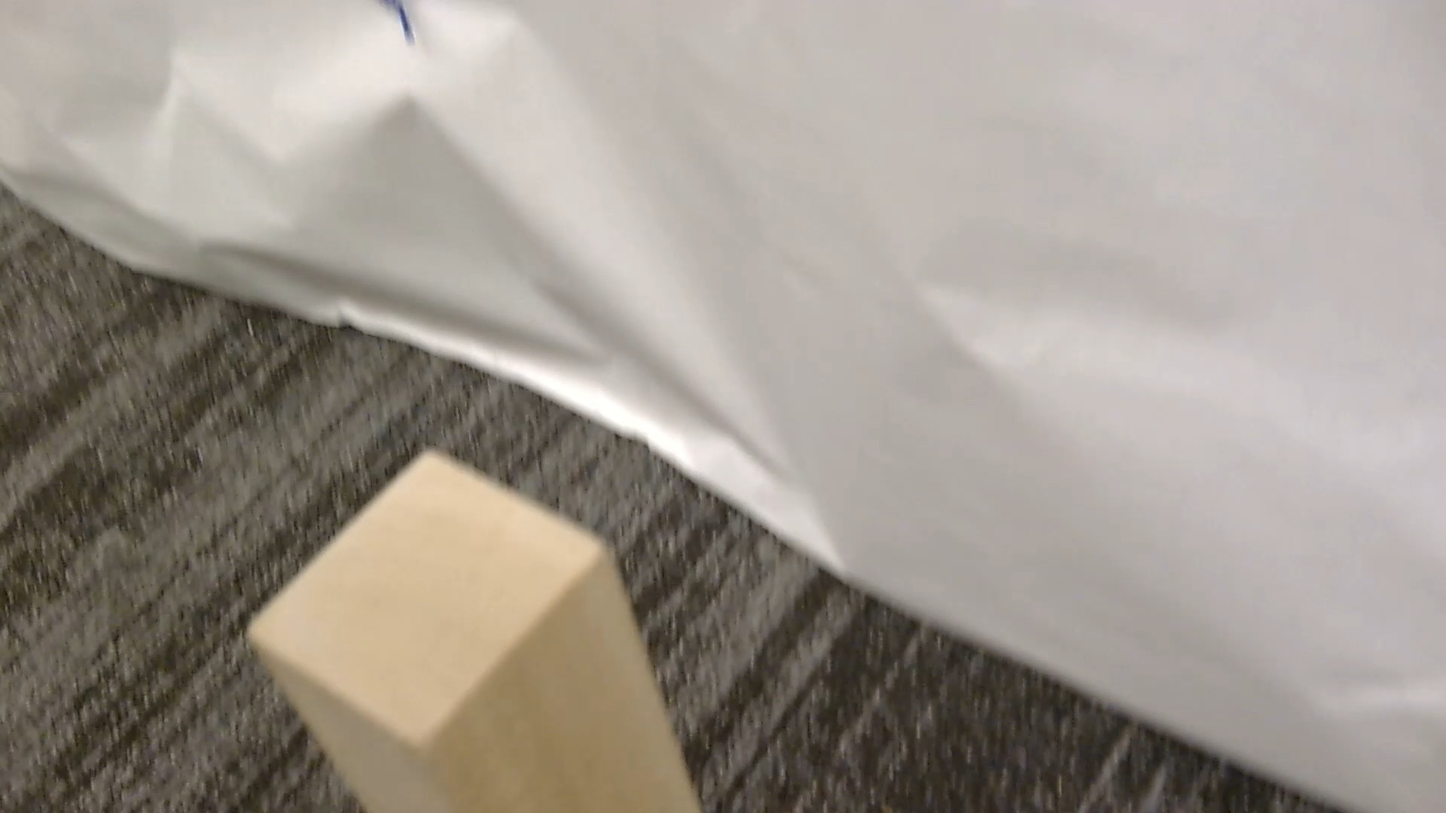Wooden Block: (249, 452, 698, 812)
